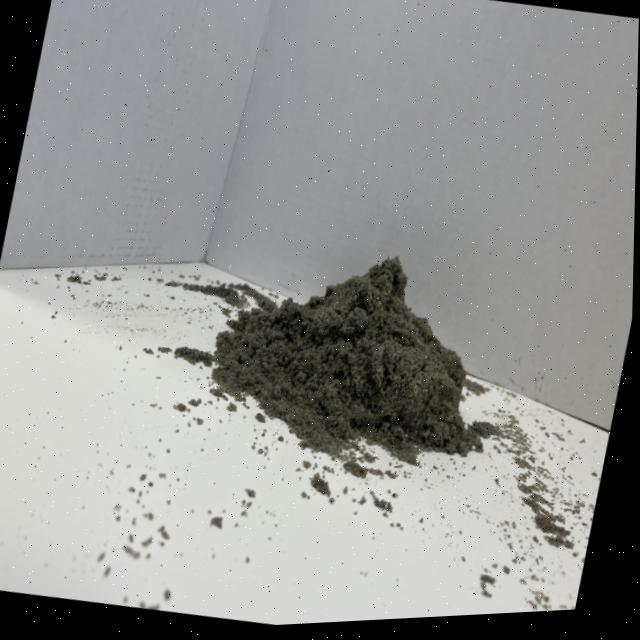sand: (181, 201, 553, 497)
